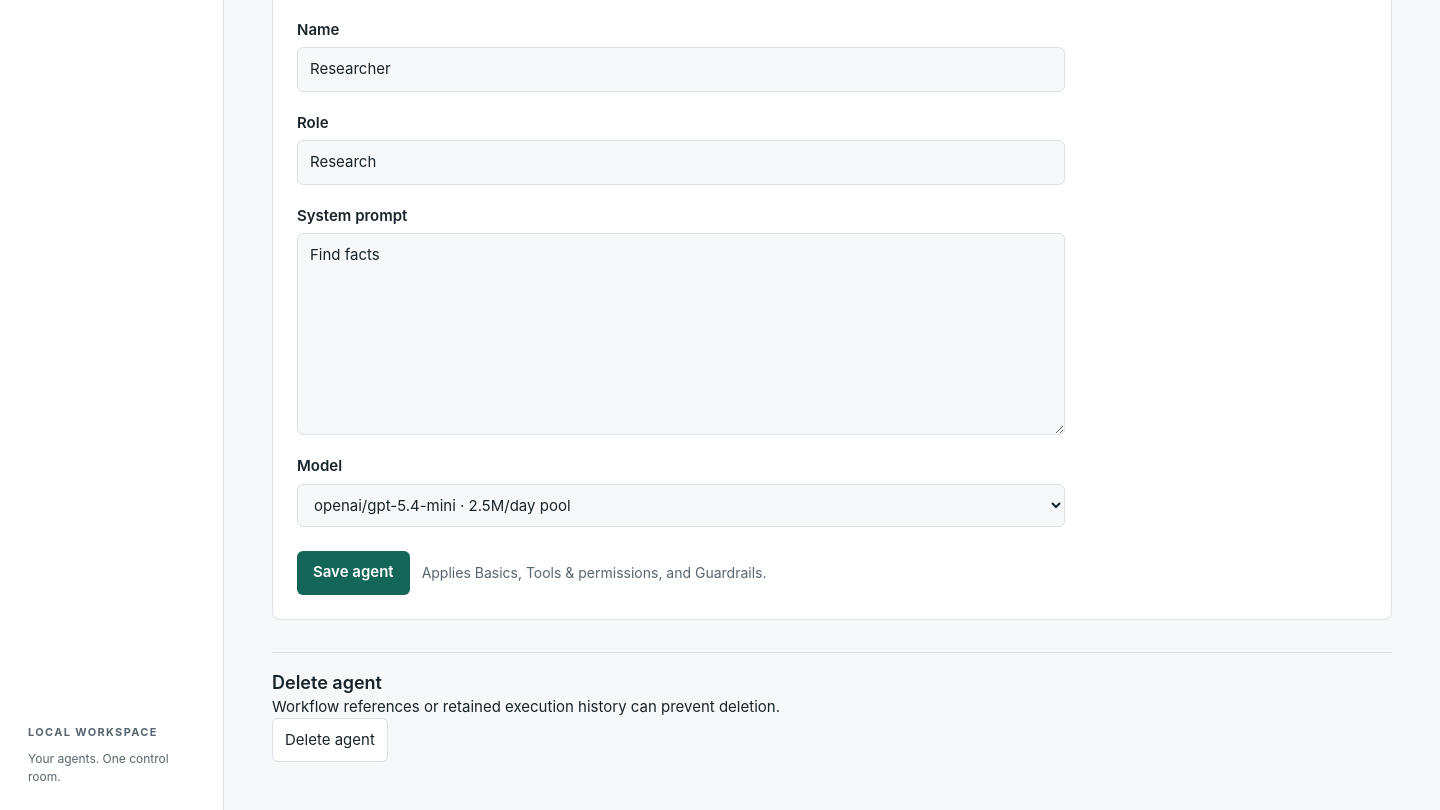
Test: T16 agent editor (R-01, R-02, R-03, R-04, R-05, R-20) › R-01 confirms deletion, shows referenced workflow names on 409, and deletes after release
(page scrolled)
Expected: the field labelled "Name" is shown, [297, 47, 1065, 92]
What coordinates should you click on to do the following:
click the button "Delete agent"
I would click on:
 (330, 740)
Its box is [272, 718, 388, 762].
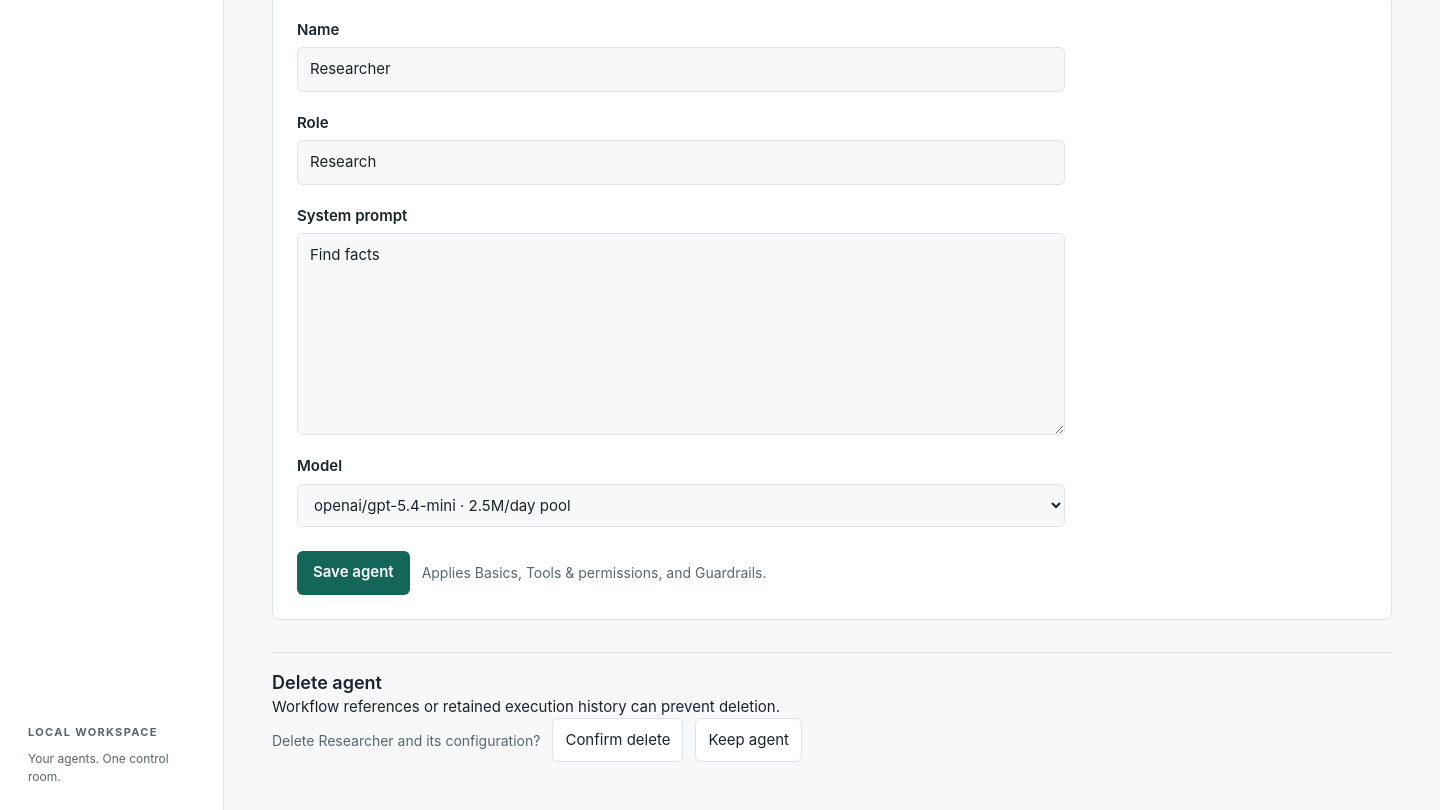
What coordinates should you click on to do the following:
click the button "Confirm delete"
I would click on:
 (618, 740)
Its box is [552, 718, 684, 762].
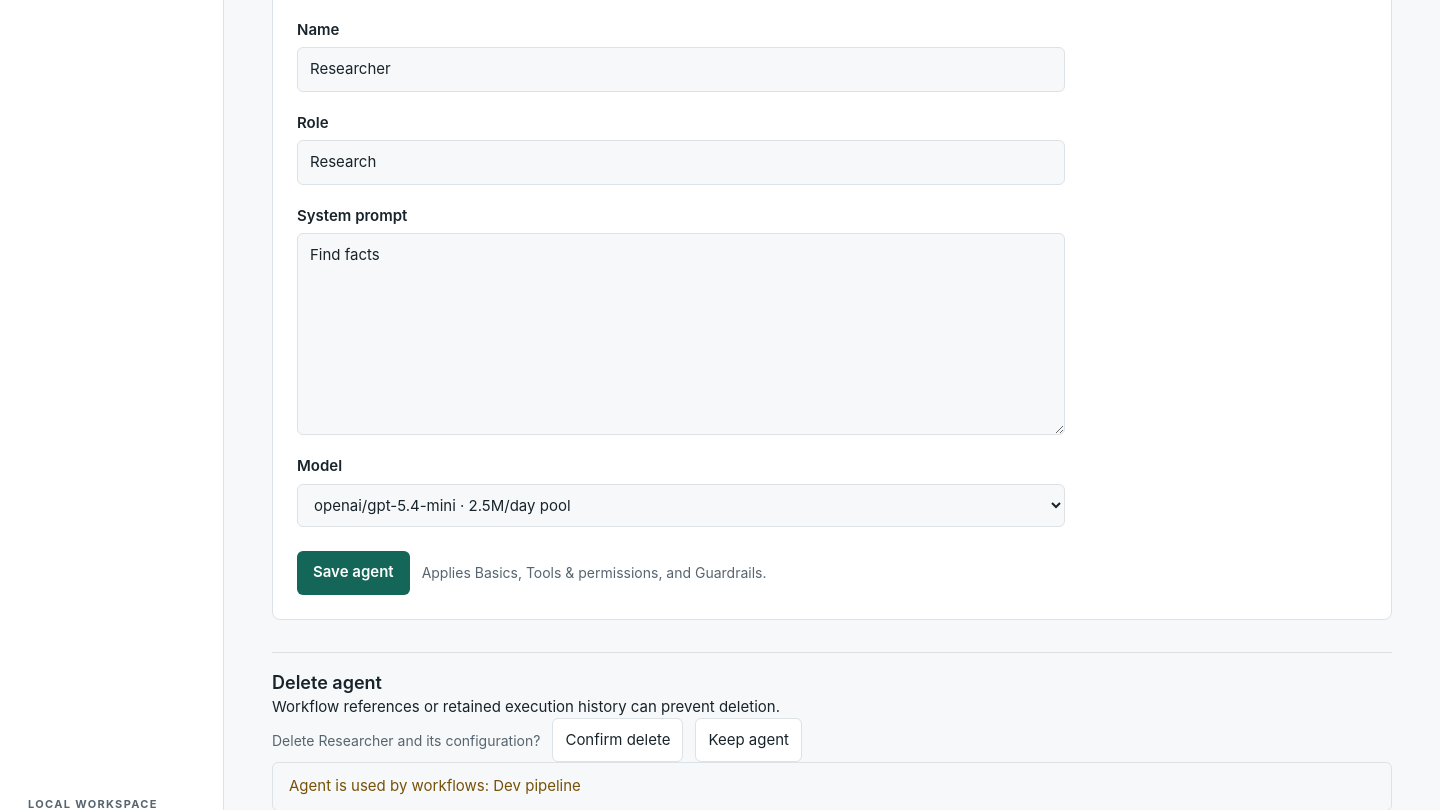
Now the text "Agent is used by workflows: Dev pipeline" is shown, box [289, 775, 581, 798]
What coordinates should you click on to do the following:
click the button "Confirm delete"
I would click on:
 (618, 740)
Its box is [552, 718, 684, 762].
(page scrolled)
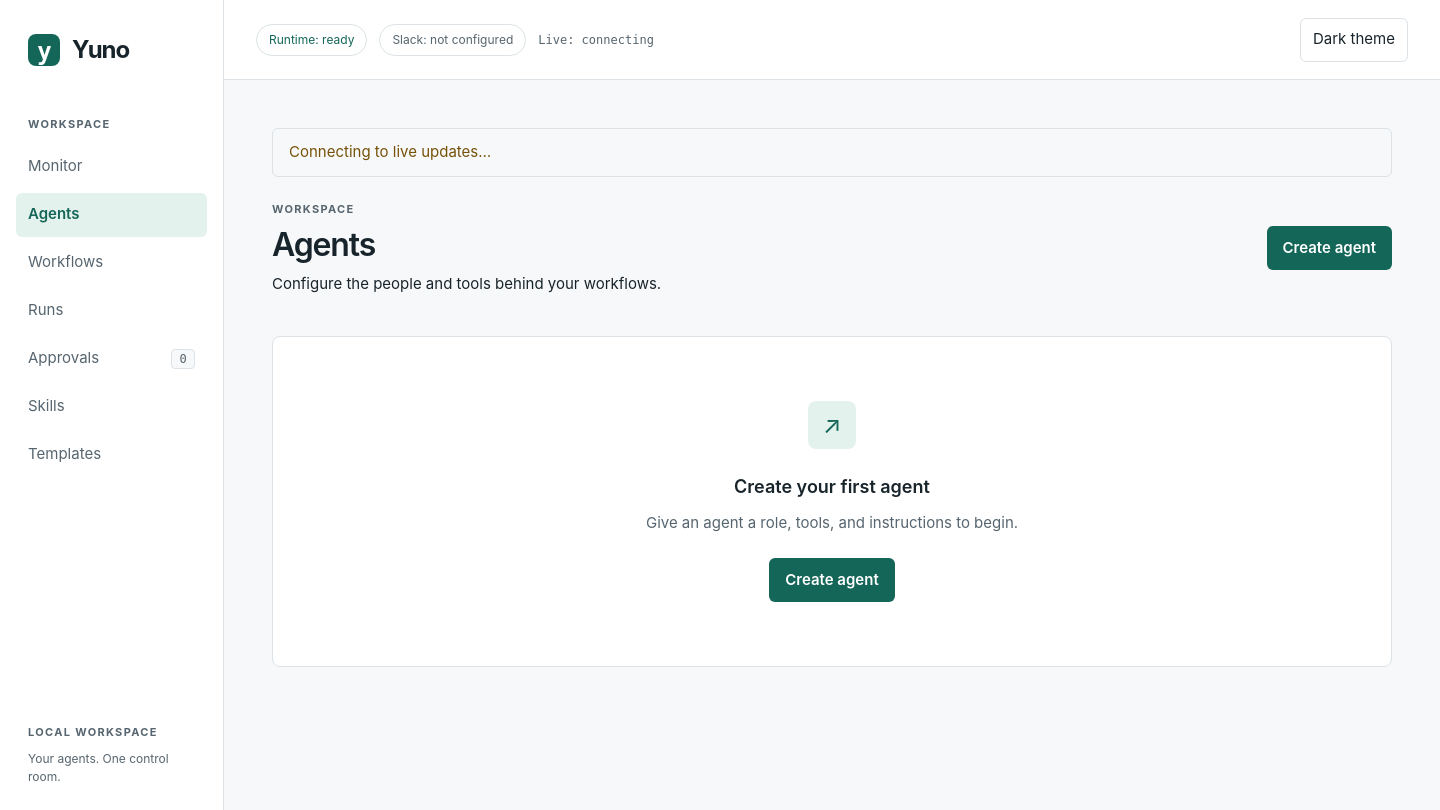
Now the heading "Create your first agent" is shown, box [734, 472, 930, 500]
